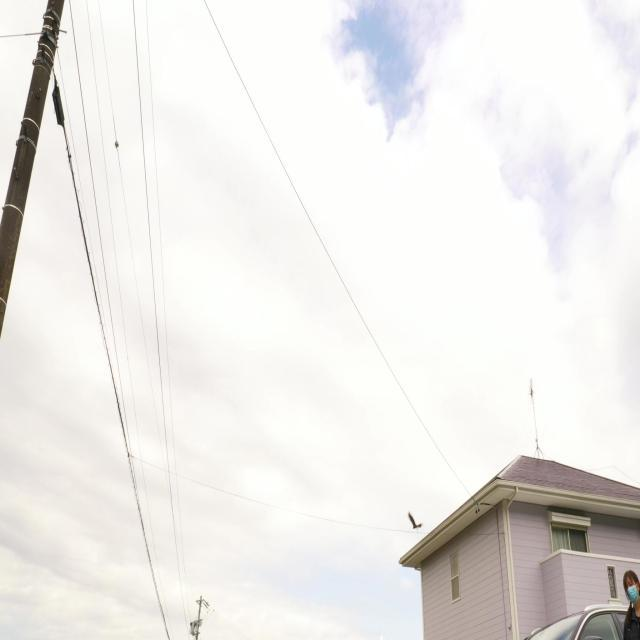Birds: (402, 508, 424, 538)
